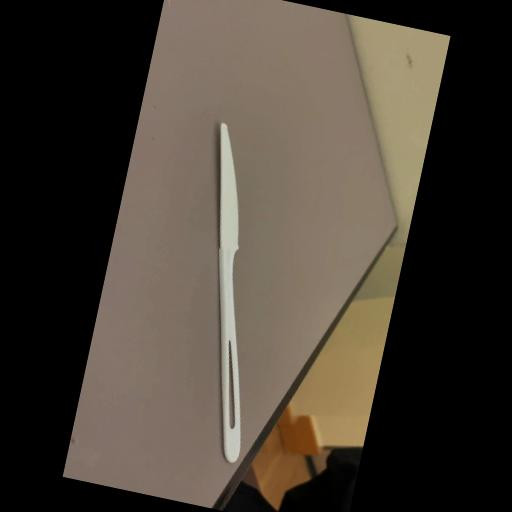utensil: (156, 118, 310, 468)
